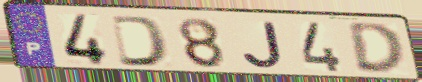4: (61, 12, 110, 68), (300, 20, 343, 73)
8: (176, 17, 227, 70)
D: (345, 21, 408, 77), (109, 14, 173, 69)
J: (240, 20, 286, 71)
